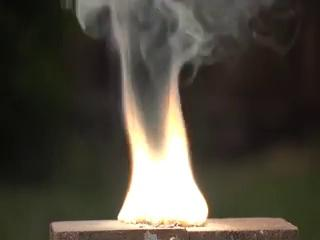Fire: (116, 68, 211, 226)
